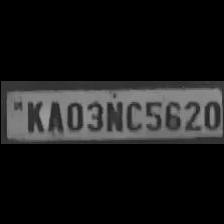0: (63, 98, 83, 132), (201, 97, 221, 129)
2: (181, 97, 201, 131)
3: (84, 97, 103, 130)
5: (142, 96, 162, 130)
6: (162, 97, 182, 130)
A: (43, 97, 62, 132)
C: (122, 97, 142, 131)
K: (21, 97, 43, 132)
N: (104, 97, 122, 131)
